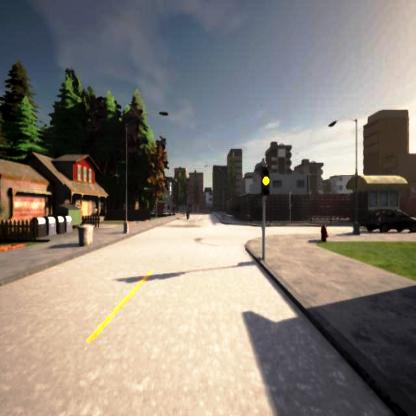vehicle: (363, 208, 415, 234)
